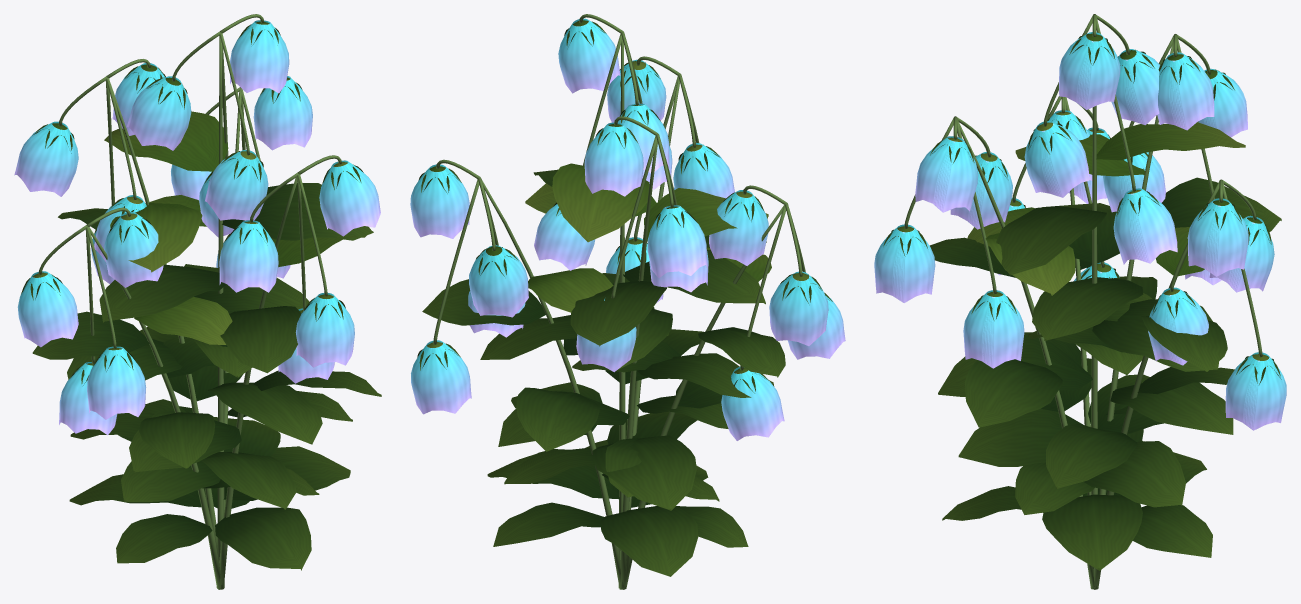
Rendered from bellflower-dream-10-lod.glb.
The picture shows the model from 3 angles, left to right: view 1: azimuth 30°, elevation 25°; view 2: azimuth 150°, elevation 25°; view 3: azimuth 270°, elevation 25°; orthographic projection. The views are drawn at different scales.
Parts seen in each view (by area): view 1: bellflower_dream_stage_10_leaf_veins.021, bellflower_dream_stage_10_bellflower_petal.021, bellflower_dream_stage_10_young_leaf.021, bellflower_dream_stage_10_stem_fibres.021; view 2: bellflower_dream_stage_10_leaf_veins.021, bellflower_dream_stage_10_bellflower_petal.021, bellflower_dream_stage_10_stem_fibres.021, bellflower_dream_stage_10_young_leaf.021; view 3: bellflower_dream_stage_10_leaf_veins.021, bellflower_dream_stage_10_bellflower_petal.021, bellflower_dream_stage_10_young_leaf.021, bellflower_dream_stage_10_stem_fibres.021.
Part boxes in pixels (x1,y1,x2,y2): bellflower_dream_stage_10_leaf_veins.021: (21, 24, 381, 570); bellflower_dream_stage_10_bellflower_petal.021: (14, 20, 380, 435); bellflower_dream_stage_10_young_leaf.021: (30, 21, 366, 368); bellflower_dream_stage_10_stem_fibres.021: (38, 14, 341, 589); bellflower_dream_stage_10_leaf_veins.021: (417, 21, 832, 576); bellflower_dream_stage_10_bellflower_petal.021: (410, 18, 845, 440); bellflower_dream_stage_10_stem_fibres.021: (433, 14, 805, 589); bellflower_dream_stage_10_young_leaf.021: (426, 20, 811, 379); bellflower_dream_stage_10_leaf_veins.021: (883, 33, 1281, 570); bellflower_dream_stage_10_bellflower_petal.021: (874, 32, 1286, 430); bellflower_dream_stage_10_young_leaf.021: (897, 33, 1269, 366); bellflower_dream_stage_10_stem_fibres.021: (904, 14, 1262, 589).
Bounding box in the file's own units: 0.4158 × 0.6453 × 0.4136.
Materials: 4 (3 with a texture image).
